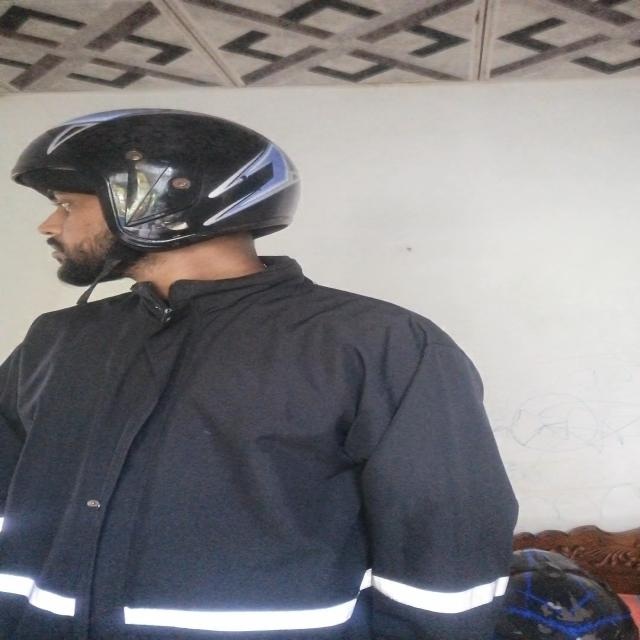Helmet_Wearer: (19, 102, 295, 310)
Jacket_Wearer: (0, 255, 508, 639)
Person: (0, 102, 490, 629)
